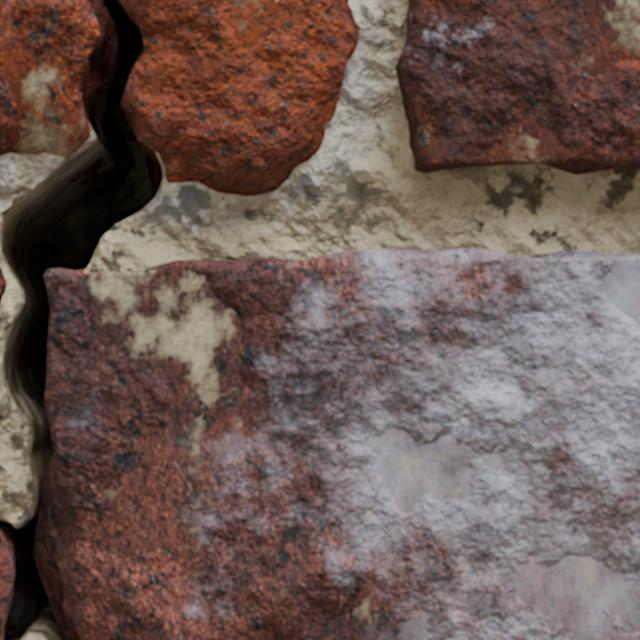brick: (45, 248, 639, 639), (396, 0, 639, 173), (0, 533, 13, 639), (0, 269, 5, 299)
broken_brick: (126, 0, 359, 196), (0, 0, 99, 156)
crack: (0, 0, 165, 639)
